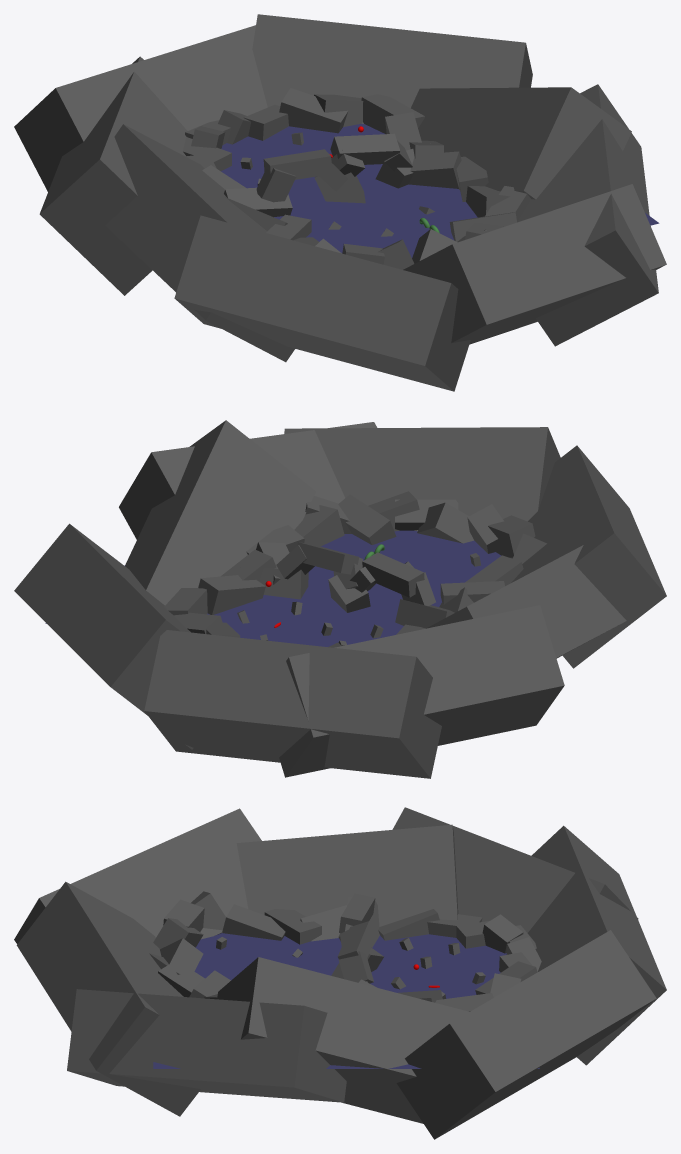
The model's file is obj_map_scarce.fbx.
3 views of the same model, one above another, from view 1: azimuth 30°, elevation 25°; view 2: azimuth 150°, elevation 25°; view 3: azimuth 270°, elevation 25° (orthographic). The views are drawn at different scales.
Parts seen in each view (by area): view 1: pCube49, pCube50, pCube53, pCube54, pCube52, pCube55, pCube51, pPlane1, pCube48, pCube4, pCube26, pCube11 (+20 smaller); view 2: pCube54, pCube55, pCube52, pCube50, pCube53, pCube49, pPlane1, pCube48, pCube51, pCube3, pCube12, pCube36 (+19 smaller); view 3: pCube53, pCube51, pCube48, pCube52, pCube50, pCube49, pPlane1, pCube54, pCube55, pCube13, pCube20, pCube8 (+16 smaller).
Boxes of the visible parts, <box> form: pCube49: <box>174,215,470,391</box>; pCube50: <box>403,184,666,344</box>; pCube53: <box>252,14,532,123</box>; pCube54: <box>14,25,267,191</box>; pCube52: <box>411,87,631,199</box>; pCube55: <box>39,56,187,295</box>; pCube51: <box>518,84,658,346</box>; pPlane1: <box>221,123,659,257</box>; pCube48: <box>105,124,294,362</box>; pCube4: <box>279,88,348,133</box>; pCube26: <box>330,133,400,164</box>; pCube11: <box>408,151,461,188</box>; pCube54: <box>144,630,441,778</box>; pCube55: <box>279,605,564,777</box>; pCube52: <box>125,420,315,605</box>; pCube50: <box>284,427,560,531</box>; pCube53: <box>14,523,193,749</box>; pCube49: <box>510,445,666,668</box>; pPlane1: <box>45,530,501,646</box>; pCube48: <box>426,545,626,658</box>; pCube51: <box>119,422,377,539</box>; pCube3: <box>198,575,265,614</box>; pCube12: <box>338,494,396,544</box>; pCube36: <box>362,552,424,597</box>; pCube53: <box>396,930,656,1139</box>; pCube51: <box>67,989,346,1102</box>; pCube48: <box>236,824,458,926</box>; pCube52: <box>217,957,469,1123</box>; pCube50: <box>16,881,200,1116</box>; pCube49: <box>14,808,261,943</box>; pPlane1: <box>153,933,539,1068</box>; pCube54: <box>527,825,666,1065</box>; pCube55: <box>392,807,638,932</box>; pCube13: <box>222,904,285,940</box>; pCube20: <box>264,909,321,944</box>; pCube8: <box>378,909,439,940</box>.
Bounding box in the file's own units: 388 × 147 × 444.
